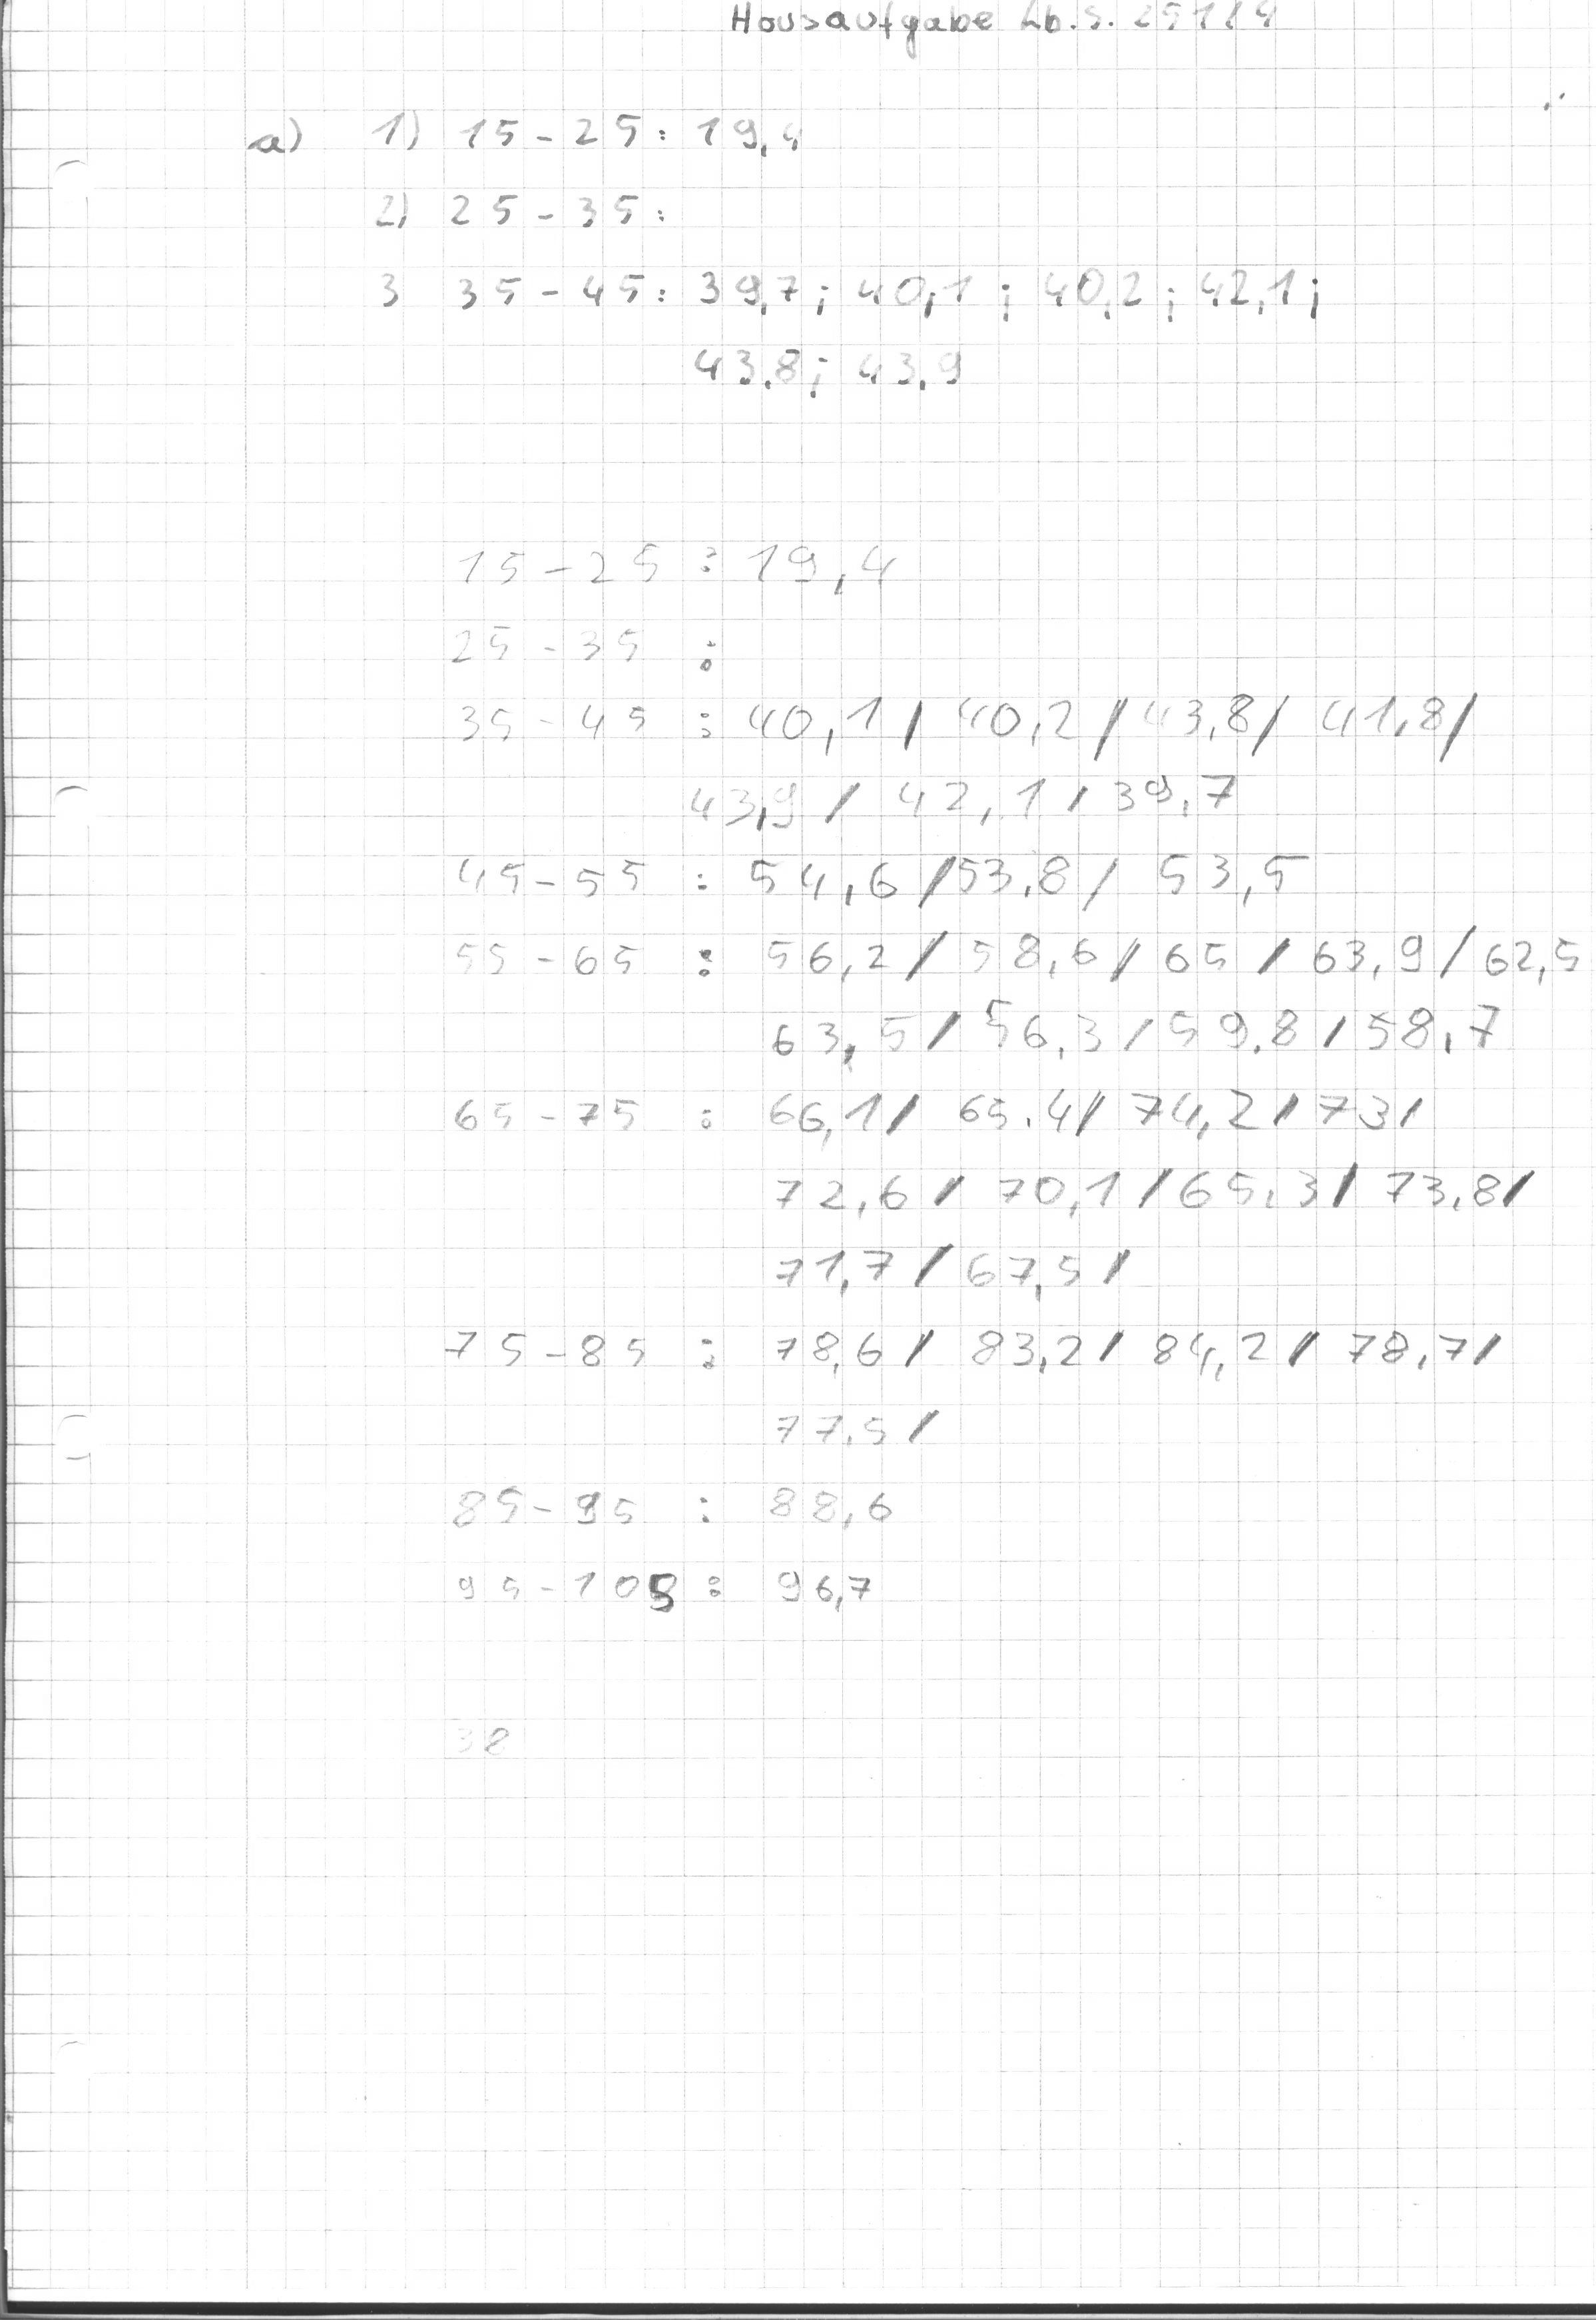word: (742, 843, 1589, 1081), (755, 1080, 1542, 1307), (688, 259, 1324, 412), (439, 1474, 912, 1638), (367, 97, 679, 331), (433, 536, 734, 765), (730, 684, 1485, 766), (755, 1316, 1509, 1384), (676, 762, 1247, 842), (438, 842, 720, 989), (718, 0, 1296, 58), (730, 507, 938, 613), (425, 1312, 724, 1386), (441, 1081, 720, 1155), (212, 79, 342, 204), (764, 1398, 943, 1451), (687, 107, 828, 170)
